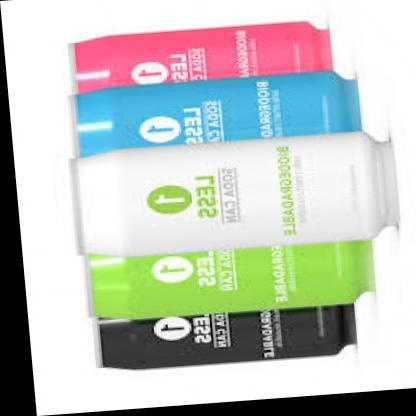trash: (74, 22, 396, 368), (73, 132, 397, 255), (76, 71, 360, 156), (89, 240, 373, 318), (74, 22, 332, 93)
